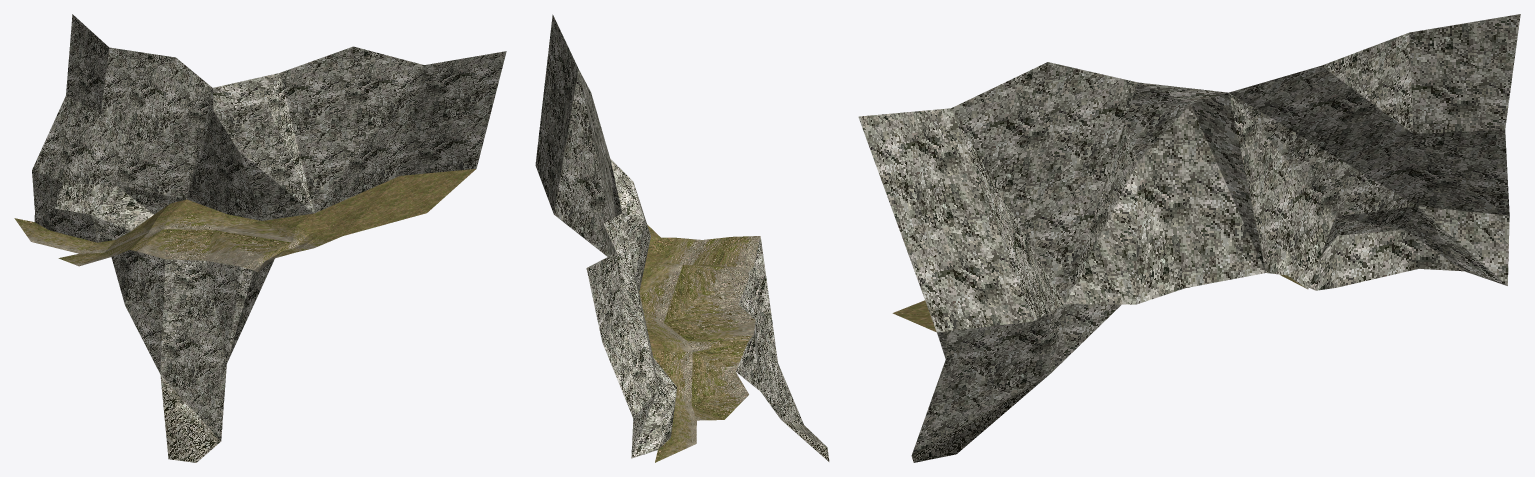
The model's file is lod_cs_landbit_29.obj.
The picture shows the model from 3 angles, left to right: view 1: azimuth 30°, elevation 25°; view 2: azimuth 150°, elevation 25°; view 3: azimuth 270°, elevation 25°; orthographic projection. The views are drawn at different scales.
Visible parts, largest first — view 1: lod_cs_landbit_29; view 2: lod_cs_landbit_29; view 3: lod_cs_landbit_29.
Part boxes in pixels (x1,y1,x2,y2): lod_cs_landbit_29: (14,14,506,462); lod_cs_landbit_29: (535,14,829,462); lod_cs_landbit_29: (858,14,1520,462).
Bounding box in the file's own units: 203 × 220 × 225.
5 materials, 5 textured.
